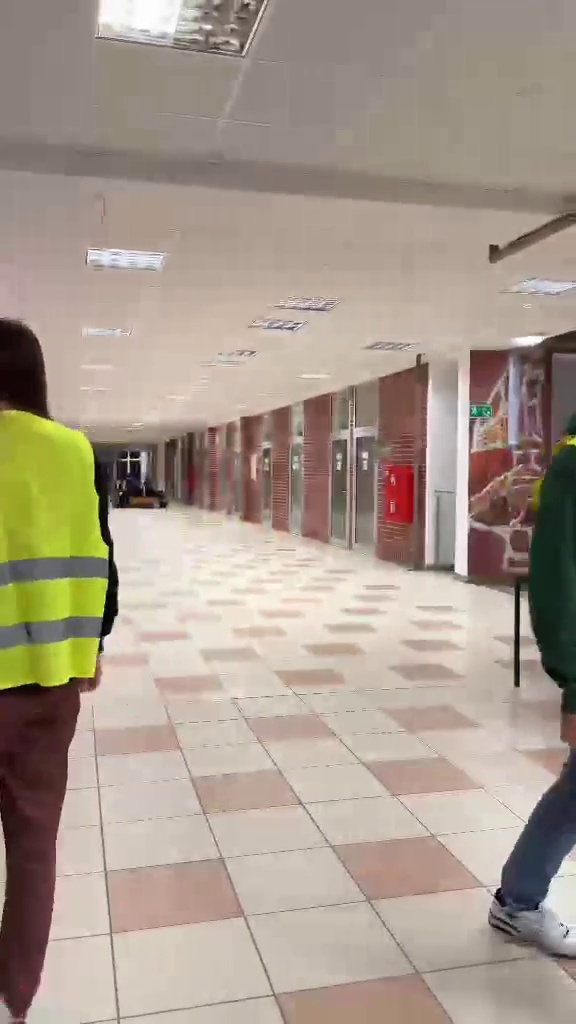vest: (0, 315, 112, 989)
